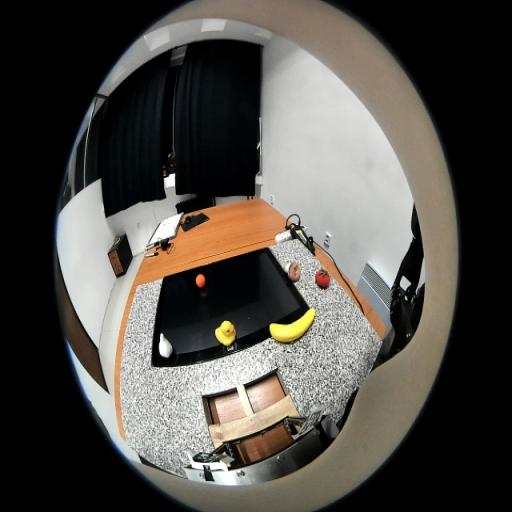Banana: (269, 307, 315, 342)
Duck: (215, 320, 237, 346)
Mushroom: (284, 262, 300, 282)
Onion: (158, 333, 173, 358)
Orange: (196, 274, 206, 288)
Tomato: (316, 269, 330, 288)
